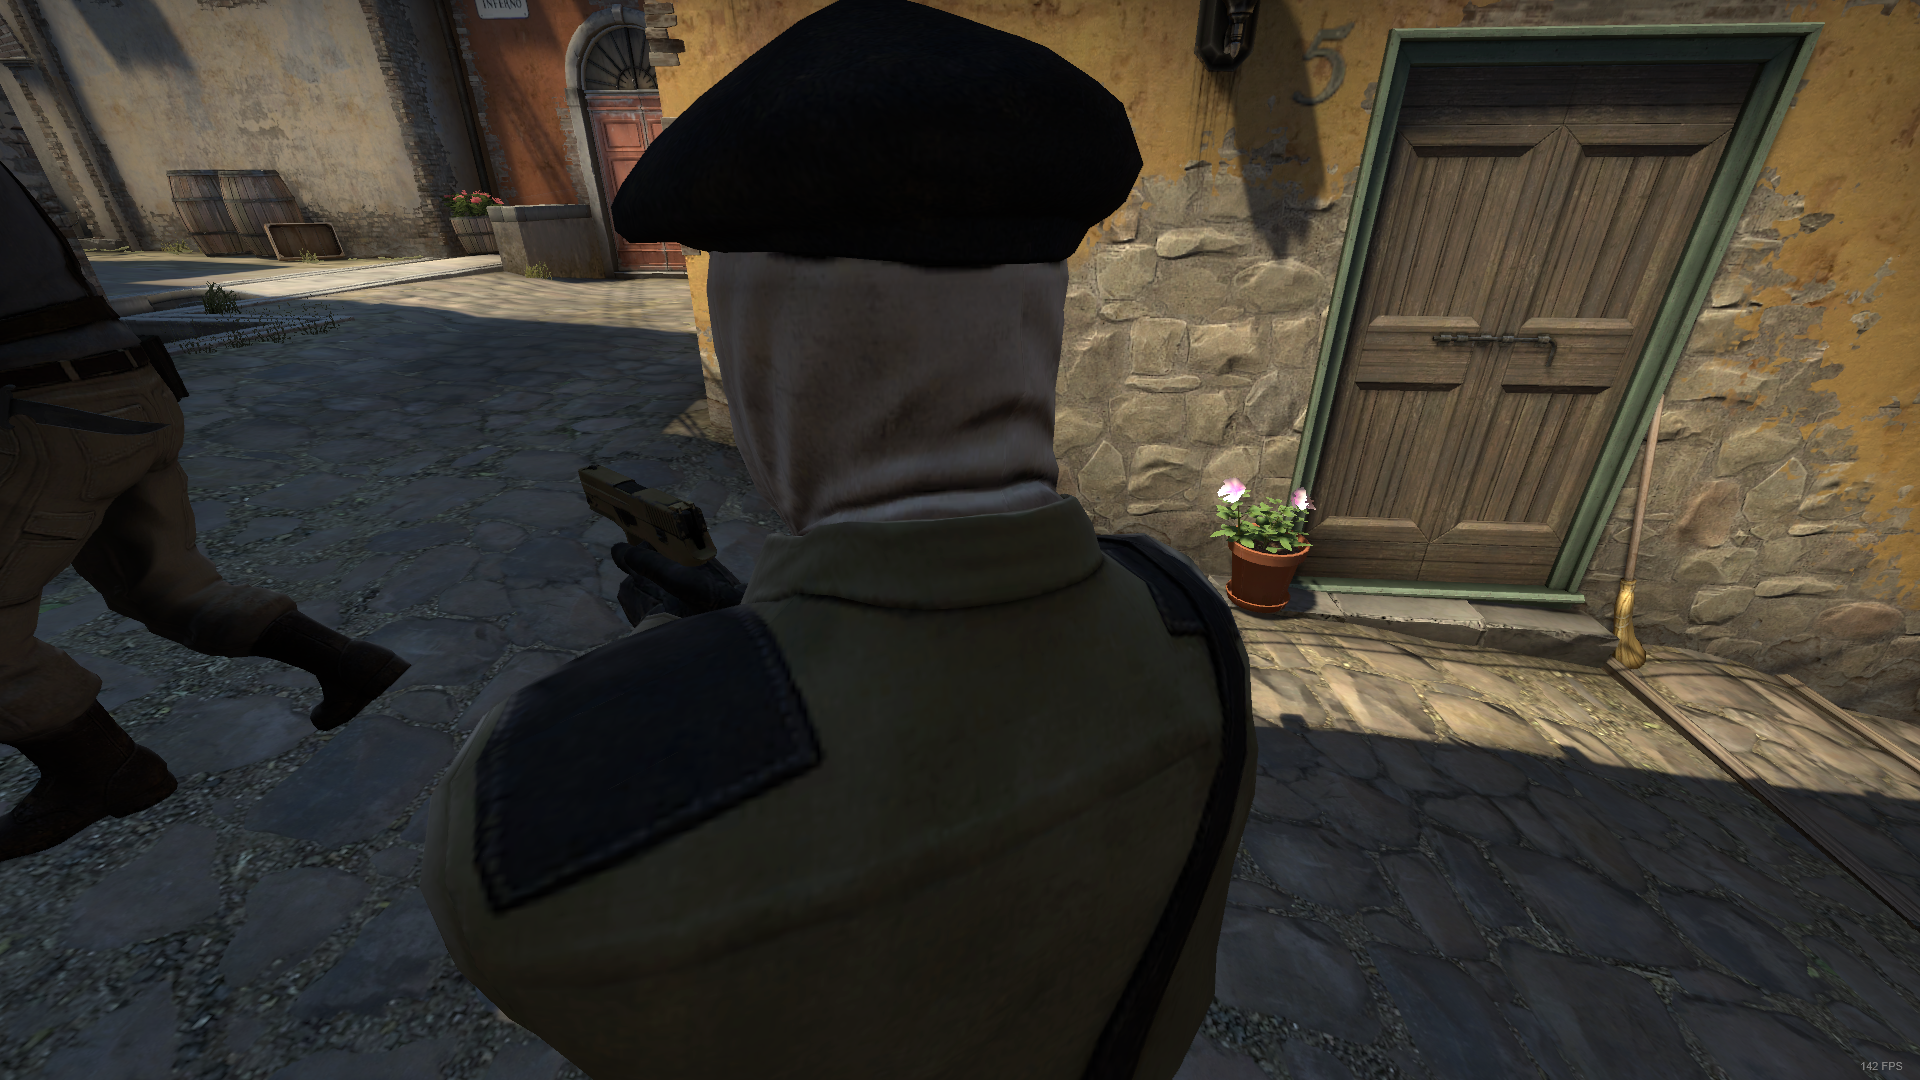t: (425, 1, 1255, 1080), (1, 154, 411, 858)
